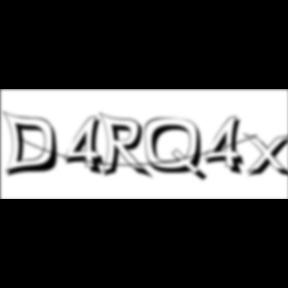4: (204, 115, 252, 179), (65, 115, 112, 179)
D: (2, 110, 66, 180)
Q: (144, 117, 210, 184)
R: (100, 112, 156, 182)
